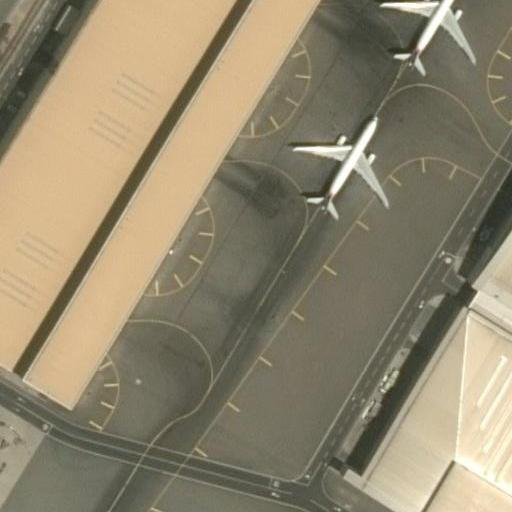Aircraft: (287, 117, 396, 223), (374, 0, 487, 73)
